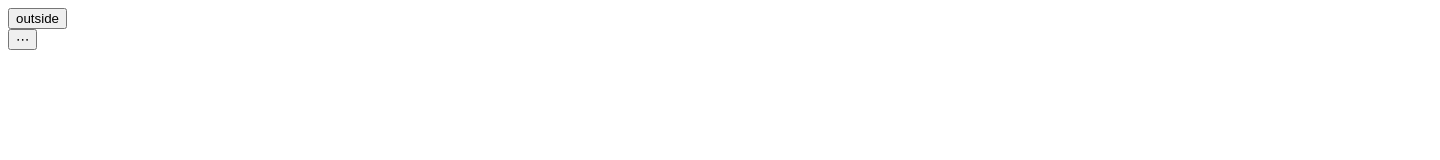
it: menu › opens on click, closes on Escape and gives focus back
The width and height of the screenshot is (1440, 160).
Click the button named "Actions" at coordinates (23, 40), box [8,29,37,50]
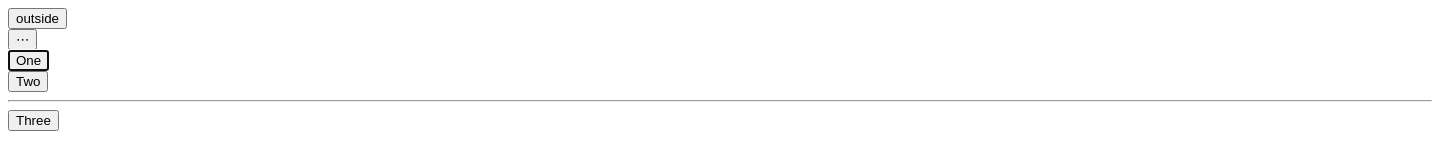
Check: the button named "Actions" is expanded, box [8,29,37,50]
Check: the menu items read "One", "Two", "Three", in this order
Press Escape in the menu item "Two", box [8,71,48,92]
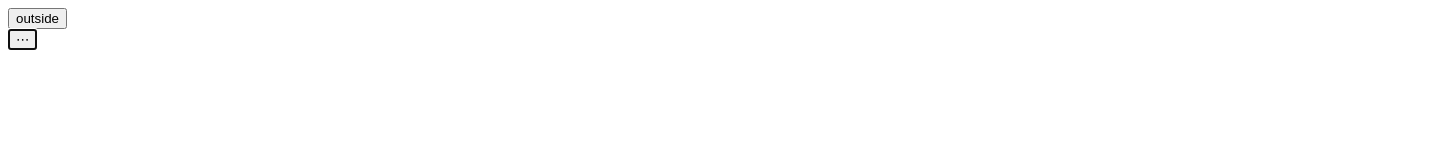
Check: the menu is gone
Check: the button named "Actions" is collapsed, box [8,29,37,50]
